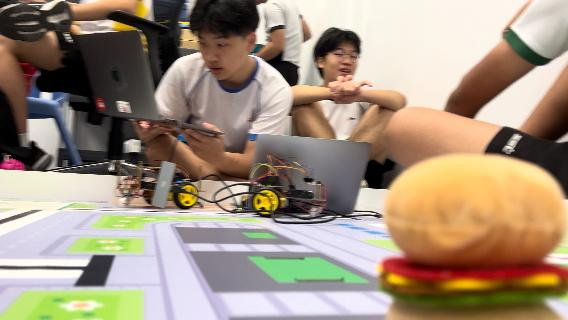burger: (378, 153, 568, 320)
